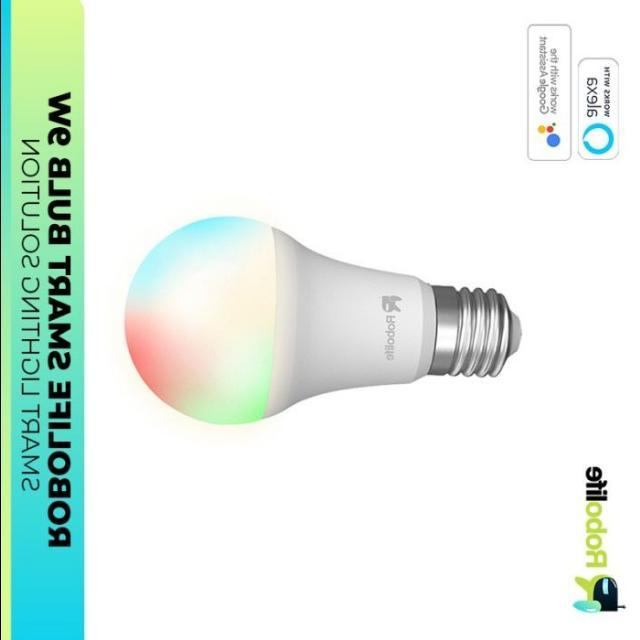light_bulb: (121, 210, 534, 440)
